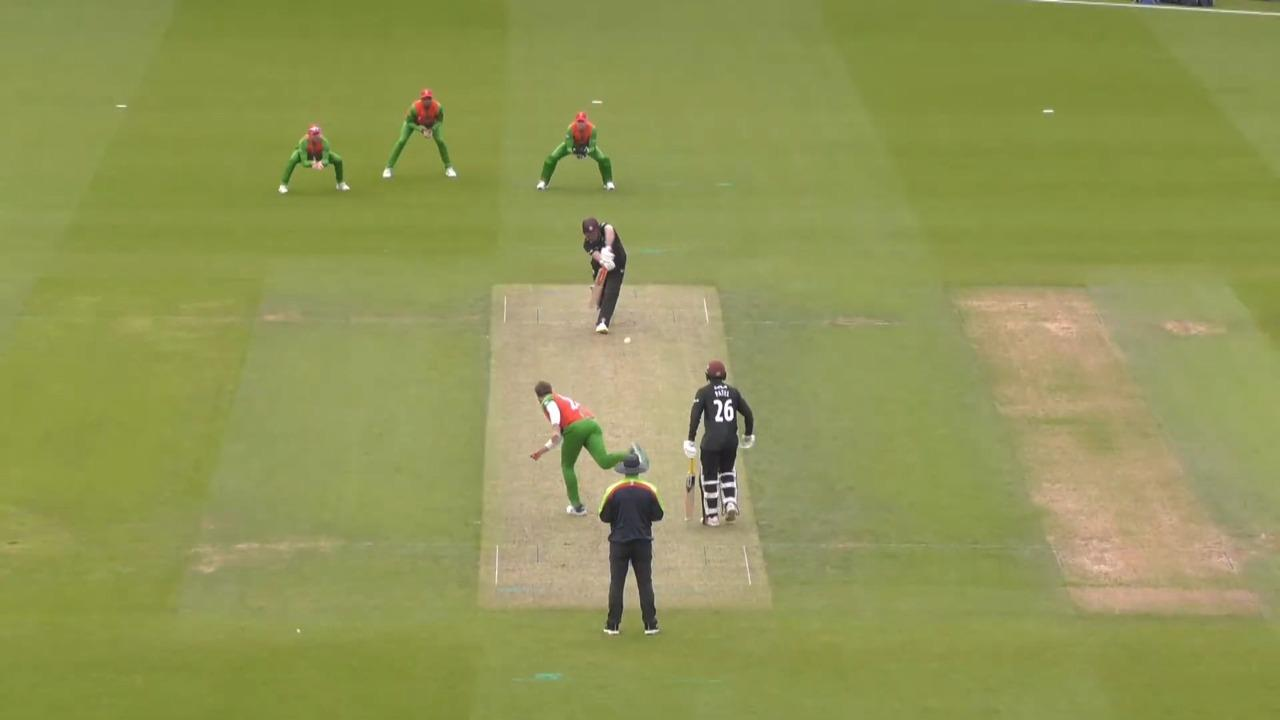sports ball: (625, 338, 630, 343)
